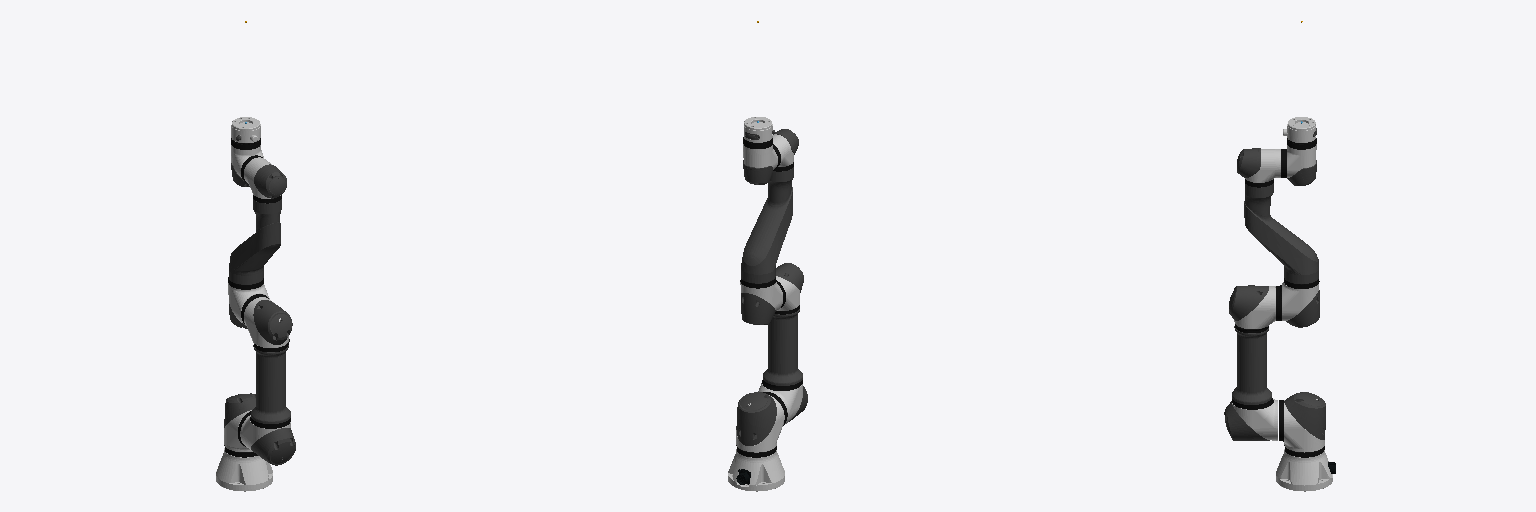
robot.urdf — rb3_730e:
<?xml version="1.0" ?>
<robot name="rb3_730e">
  <material name="black">
    <color rgba="0.10000000149011612 0.10000000149011612 0.10000000149011612 1.0"/>
  </material>
  <material name="gray_30">
    <color rgba="0.30000001192092896 0.30000001192092896 0.30000001192092896 1.0"/>
  </material>
  <material name="gray_80">
    <color rgba="0.800000011920929 0.800000011920929 0.800000011920929 1.0"/>
  </material>
  <material name="dark_gray">
    <color rgba="0.07227200269699097 0.09084200114011765 0.09758699685335159 1.0"/>
  </material>
  <link name="world"/>
  <link name="link0">
    <visual>
      <origin xyz="0.0 0.0 0.0" rpy="0.0 0.0 0.0"/>
      <geometry>
        <mesh filename="../meshes/robots/rb3_730e/visual/link0/link0_0.obj" scale="1.0 1.0 1.0"/>
      </geometry>
      <material name="dark_gray"/>
    </visual>
    <visual>
      <origin xyz="0.0 0.0 0.0" rpy="0.0 0.0 0.0"/>
      <geometry>
        <mesh filename="../meshes/robots/rb3_730e/visual/link0/link0_1.obj" scale="1.0 1.0 1.0"/>
      </geometry>
      <material name="gray_80"/>
    </visual>
    <visual>
      <origin xyz="0.0 0.0 0.0" rpy="0.0 0.0 0.0"/>
      <geometry>
        <mesh filename="../meshes/robots/rb3_730e/visual/link0/link0_2.obj" scale="1.0 1.0 1.0"/>
      </geometry>
      <material name="gray_80"/>
    </visual>
    <visual>
      <origin xyz="0.0 0.0 0.0" rpy="0.0 0.0 0.0"/>
      <geometry>
        <mesh filename="../meshes/robots/rb3_730e/visual/link0/link0_3.obj" scale="1.0 1.0 1.0"/>
      </geometry>
      <material name="gray_30"/>
    </visual>
    <visual>
      <origin xyz="0.0 0.0 0.0" rpy="0.0 0.0 0.0"/>
      <geometry>
        <mesh filename="../meshes/robots/rb3_730e/visual/link0/link0_4.obj" scale="1.0 1.0 1.0"/>
      </geometry>
      <material name="black"/>
    </visual>
    <collision>
      <origin xyz="0.0 0.0 0.0" rpy="0.0 0.0 -1.5708"/>
      <geometry>
        <mesh filename="../meshes/robots/rb3_730e/collision/link0.stl" scale="1.0 1.0 1.0"/>
      </geometry>
    </collision>
  </link>
  <link name="link1">
    <inertial>
      <origin xyz="0.000101 -0.003241 -0.017587" rpy="0.0 0.0 0.0"/>
      <mass value="2.058"/>
      <inertia ixx="0.003" iyy="0.003" izz="0.002" ixy="0" ixz="0" iyz="0"/>
    </inertial>
    <visual>
      <origin xyz="0.0 0.0 0.0" rpy="0.0 0.0 0.0"/>
      <geometry>
        <mesh filename="../meshes/robots/rb3_730e/visual/link1/link1_0.obj" scale="1.0 1.0 1.0"/>
      </geometry>
      <material name="gray_80"/>
    </visual>
    <visual>
      <origin xyz="0.0 0.0 0.0" rpy="0.0 0.0 0.0"/>
      <geometry>
        <mesh filename="../meshes/robots/rb3_730e/visual/link1/link1_1.obj" scale="1.0 1.0 1.0"/>
      </geometry>
      <material name="gray_30"/>
    </visual>
    <visual>
      <origin xyz="0.0 0.0 0.0" rpy="0.0 0.0 0.0"/>
      <geometry>
        <mesh filename="../meshes/robots/rb3_730e/visual/link1/link1_2.obj" scale="1.0 1.0 1.0"/>
      </geometry>
      <material name="black"/>
    </visual>
    <visual>
      <origin xyz="0.0 0.0 0.0" rpy="0.0 0.0 0.0"/>
      <geometry>
        <mesh filename="../meshes/robots/rb3_730e/visual/link1/link1_3.obj" scale="1.0 1.0 1.0"/>
      </geometry>
      <material name="gray_80"/>
    </visual>
    <visual>
      <origin xyz="0.0 0.0 0.0" rpy="0.0 0.0 0.0"/>
      <geometry>
        <mesh filename="../meshes/robots/rb3_730e/visual/link1/link1_4.obj" scale="1.0 1.0 1.0"/>
      </geometry>
      <material name="black"/>
    </visual>
    <collision>
      <origin xyz="0.0 0.0 0.0" rpy="0.0 0.0 0.0"/>
      <geometry>
        <mesh filename="../meshes/robots/rb3_730e/collision/link1.stl" scale="1.0 1.0 1.0"/>
      </geometry>
    </collision>
  </link>
  <link name="link2">
    <inertial>
      <origin xyz="-4.9e-05 -0.095326 0.121743" rpy="0.0 0.0 0.0"/>
      <mass value="4.227"/>
      <inertia ixx="0.075" iyy="0.073" izz="0.005" ixy="0" ixz="0" iyz="0"/>
    </inertial>
    <visual>
      <origin xyz="0.0 0.0 0.0" rpy="0.0 0.0 0.0"/>
      <geometry>
        <mesh filename="../meshes/robots/rb3_730e/visual/link2/link2_0.obj" scale="1.0 1.0 1.0"/>
      </geometry>
      <material name="gray_30"/>
    </visual>
    <visual>
      <origin xyz="0.0 0.0 0.0" rpy="0.0 0.0 0.0"/>
      <geometry>
        <mesh filename="../meshes/robots/rb3_730e/visual/link2/link2_1.obj" scale="1.0 1.0 1.0"/>
      </geometry>
      <material name="gray_30"/>
    </visual>
    <visual>
      <origin xyz="0.0 0.0 0.0" rpy="0.0 0.0 0.0"/>
      <geometry>
        <mesh filename="../meshes/robots/rb3_730e/visual/link2/link2_2.obj" scale="1.0 1.0 1.0"/>
      </geometry>
      <material name="gray_80"/>
    </visual>
    <visual>
      <origin xyz="0.0 0.0 0.0" rpy="0.0 0.0 0.0"/>
      <geometry>
        <mesh filename="../meshes/robots/rb3_730e/visual/link2/link2_3.obj" scale="1.0 1.0 1.0"/>
      </geometry>
      <material name="gray_80"/>
    </visual>
    <visual>
      <origin xyz="0.0 0.0 0.0" rpy="0.0 0.0 0.0"/>
      <geometry>
        <mesh filename="../meshes/robots/rb3_730e/visual/link2/link2_4.obj" scale="1.0 1.0 1.0"/>
      </geometry>
      <material name="gray_30"/>
    </visual>
    <visual>
      <origin xyz="0.0 0.0 0.0" rpy="0.0 0.0 0.0"/>
      <geometry>
        <mesh filename="../meshes/robots/rb3_730e/visual/link2/link2_5.obj" scale="1.0 1.0 1.0"/>
      </geometry>
      <material name="gray_80"/>
    </visual>
    <visual>
      <origin xyz="0.0 0.0 0.0" rpy="0.0 0.0 0.0"/>
      <geometry>
        <mesh filename="../meshes/robots/rb3_730e/visual/link2/link2_6.obj" scale="1.0 1.0 1.0"/>
      </geometry>
      <material name="gray_80"/>
    </visual>
    <visual>
      <origin xyz="0.0 0.0 0.0" rpy="0.0 0.0 0.0"/>
      <geometry>
        <mesh filename="../meshes/robots/rb3_730e/visual/link2/link2_7.obj" scale="1.0 1.0 1.0"/>
      </geometry>
      <material name="gray_30"/>
    </visual>
    <visual>
      <origin xyz="0.0 0.0 0.0" rpy="0.0 0.0 0.0"/>
      <geometry>
        <mesh filename="../meshes/robots/rb3_730e/visual/link2/link2_8.obj" scale="1.0 1.0 1.0"/>
      </geometry>
      <material name="black"/>
    </visual>
    <visual>
      <origin xyz="0.0 0.0 0.0" rpy="0.0 0.0 0.0"/>
      <geometry>
        <mesh filename="../meshes/robots/rb3_730e/visual/link2/link2_9.obj" scale="1.0 1.0 1.0"/>
      </geometry>
      <material name="black"/>
    </visual>
    <visual>
      <origin xyz="0.0 0.0 0.0" rpy="0.0 0.0 0.0"/>
      <geometry>
        <mesh filename="../meshes/robots/rb3_730e/visual/link2/link2_10.obj" scale="1.0 1.0 1.0"/>
      </geometry>
      <material name="black"/>
    </visual>
    <collision>
      <origin xyz="0.0 0.0 0.0" rpy="0.0 0.0 0.0"/>
      <geometry>
        <mesh filename="../meshes/robots/rb3_730e/collision/link2/link2_hull_000.stl" scale="1.0 1.0 1.0"/>
      </geometry>
    </collision>
    <collision>
      <origin xyz="0.0 0.0 0.0" rpy="0.0 0.0 0.0"/>
      <geometry>
        <mesh filename="../meshes/robots/rb3_730e/collision/link2/link2_hull_001.stl" scale="1.0 1.0 1.0"/>
      </geometry>
    </collision>
    <collision>
      <origin xyz="0.0 0.0 0.0" rpy="0.0 0.0 0.0"/>
      <geometry>
        <mesh filename="../meshes/robots/rb3_730e/collision/link2/link2_hull_002.stl" scale="1.0 1.0 1.0"/>
      </geometry>
    </collision>
  </link>
  <link name="link3">
    <inertial>
      <origin xyz="0.0 -0.004 0.026" rpy="0.0 0.0 0.0"/>
      <mass value="1.45"/>
      <inertia ixx="0.02" iyy="0.018" izz="0.003" ixy="0" ixz="0" iyz="0.004"/>
    </inertial>
    <visual>
      <origin xyz="0.0 0.0 0.0" rpy="0.0 0.0 0.0"/>
      <geometry>
        <mesh filename="../meshes/robots/rb3_730e/visual/link3/link3_0.obj" scale="1.0 1.0 1.0"/>
      </geometry>
      <material name="black"/>
    </visual>
    <visual>
      <origin xyz="0.0 0.0 0.0" rpy="0.0 0.0 0.0"/>
      <geometry>
        <mesh filename="../meshes/robots/rb3_730e/visual/link3/link3_1.obj" scale="1.0 1.0 1.0"/>
      </geometry>
      <material name="gray_80"/>
    </visual>
    <visual>
      <origin xyz="0.0 0.0 0.0" rpy="0.0 0.0 0.0"/>
      <geometry>
        <mesh filename="../meshes/robots/rb3_730e/visual/link3/link3_2.obj" scale="1.0 1.0 1.0"/>
      </geometry>
      <material name="gray_80"/>
    </visual>
    <visual>
      <origin xyz="0.0 0.0 0.0" rpy="0.0 0.0 0.0"/>
      <geometry>
        <mesh filename="../meshes/robots/rb3_730e/visual/link3/link3_3.obj" scale="1.0 1.0 1.0"/>
      </geometry>
      <material name="gray_30"/>
    </visual>
    <visual>
      <origin xyz="0.0 0.0 0.0" rpy="0.0 0.0 0.0"/>
      <geometry>
        <mesh filename="../meshes/robots/rb3_730e/visual/link3/link3_4.obj" scale="1.0 1.0 1.0"/>
      </geometry>
      <material name="black"/>
    </visual>
    <visual>
      <origin xyz="0.0 0.0 0.0" rpy="0.0 0.0 0.0"/>
      <geometry>
        <mesh filename="../meshes/robots/rb3_730e/visual/link3/link3_5.obj" scale="1.0 1.0 1.0"/>
      </geometry>
      <material name="black"/>
    </visual>
    <collision>
      <origin xyz="0.0 0.0 0.0" rpy="0.0 0.0 0.0"/>
      <geometry>
        <mesh filename="../meshes/robots/rb3_730e/collision/link3.stl" scale="1.0 1.0 1.0"/>
      </geometry>
    </collision>
  </link>
  <link name="link4">
    <inertial>
      <origin xyz="0.0 -0.065 0.264" rpy="0.0 0.0 0.0"/>
      <mass value="1.798"/>
      <inertia ixx="0.02" iyy="0.018" izz="0.003" ixy="0" ixz="0" iyz="0.004"/>
    </inertial>
    <visual>
      <origin xyz="0.0 0.0 0.0" rpy="0.0 0.0 0.0"/>
      <geometry>
        <mesh filename="../meshes/robots/rb3_730e/visual/link4/link4_0.obj" scale="1.0 1.0 1.0"/>
      </geometry>
      <material name="gray_30"/>
    </visual>
    <visual>
      <origin xyz="0.0 0.0 0.0" rpy="0.0 0.0 0.0"/>
      <geometry>
        <mesh filename="../meshes/robots/rb3_730e/visual/link4/link4_1.obj" scale="1.0 1.0 1.0"/>
      </geometry>
      <material name="black"/>
    </visual>
    <visual>
      <origin xyz="0.0 0.0 0.0" rpy="0.0 0.0 0.0"/>
      <geometry>
        <mesh filename="../meshes/robots/rb3_730e/visual/link4/link4_2.obj" scale="1.0 1.0 1.0"/>
      </geometry>
      <material name="gray_80"/>
    </visual>
    <visual>
      <origin xyz="0.0 0.0 0.0" rpy="0.0 0.0 0.0"/>
      <geometry>
        <mesh filename="../meshes/robots/rb3_730e/visual/link4/link4_3.obj" scale="1.0 1.0 1.0"/>
      </geometry>
      <material name="black"/>
    </visual>
    <visual>
      <origin xyz="0.0 0.0 0.0" rpy="0.0 0.0 0.0"/>
      <geometry>
        <mesh filename="../meshes/robots/rb3_730e/visual/link4/link4_4.obj" scale="1.0 1.0 1.0"/>
      </geometry>
      <material name="gray_30"/>
    </visual>
    <collision>
      <origin xyz="0.0 0.0 0.0" rpy="0.0 0.0 0.0"/>
      <geometry>
        <mesh filename="../meshes/robots/rb3_730e/collision/link4/link4_hull_000.stl" scale="1.0 1.0 1.0"/>
      </geometry>
    </collision>
    <collision>
      <origin xyz="0.0 0.0 0.0" rpy="0.0 0.0 0.0"/>
      <geometry>
        <mesh filename="../meshes/robots/rb3_730e/collision/link4/link4_hull_001.stl" scale="1.0 1.0 1.0"/>
      </geometry>
    </collision>
    <collision>
      <origin xyz="0.0 0.0 0.0" rpy="0.0 0.0 0.0"/>
      <geometry>
        <mesh filename="../meshes/robots/rb3_730e/collision/link4/link4_hull_002.stl" scale="1.0 1.0 1.0"/>
      </geometry>
    </collision>
    <collision>
      <origin xyz="0.0 0.0 0.0" rpy="0.0 0.0 0.0"/>
      <geometry>
        <mesh filename="../meshes/robots/rb3_730e/collision/link4/link4_hull_003.stl" scale="1.0 1.0 1.0"/>
      </geometry>
    </collision>
  </link>
  <link name="link5">
    <inertial>
      <origin xyz="0.0 -0.001 0.017" rpy="0.0 0.0 0.0"/>
      <mass value="0.944"/>
      <inertia ixx="0.000776694" iyy="0.000786695" izz="0.000515123" ixy="5.052e-06" ixz="-5.306e-06" iyz="-1.7419e-05"/>
    </inertial>
    <visual>
      <origin xyz="0.0 0.0 0.0" rpy="0.0 0.0 0.0"/>
      <geometry>
        <mesh filename="../meshes/robots/rb3_730e/visual/link5/link5_0.obj" scale="1.0 1.0 1.0"/>
      </geometry>
      <material name="black"/>
    </visual>
    <visual>
      <origin xyz="0.0 0.0 0.0" rpy="0.0 0.0 0.0"/>
      <geometry>
        <mesh filename="../meshes/robots/rb3_730e/visual/link5/link5_1.obj" scale="1.0 1.0 1.0"/>
      </geometry>
      <material name="gray_80"/>
    </visual>
    <visual>
      <origin xyz="0.0 0.0 0.0" rpy="0.0 0.0 0.0"/>
      <geometry>
        <mesh filename="../meshes/robots/rb3_730e/visual/link5/link5_2.obj" scale="1.0 1.0 1.0"/>
      </geometry>
      <material name="gray_80"/>
    </visual>
    <visual>
      <origin xyz="0.0 0.0 0.0" rpy="0.0 0.0 0.0"/>
      <geometry>
        <mesh filename="../meshes/robots/rb3_730e/visual/link5/link5_3.obj" scale="1.0 1.0 1.0"/>
      </geometry>
      <material name="gray_30"/>
    </visual>
    <collision>
      <origin xyz="0.0 0.0 0.0" rpy="0.0 0.0 0.0"/>
      <geometry>
        <mesh filename="../meshes/robots/rb3_730e/collision/link5.stl" scale="1.0 1.0 1.0"/>
      </geometry>
    </collision>
  </link>
  <link name="link6">
    <inertial>
      <origin xyz="-0.001 -0.001 0.068" rpy="0.0 0.0 0.0"/>
      <mass value="0.05"/>
      <inertia ixx="2.6302e-05" iyy="1.6887e-05" izz="3.5232e-05" ixy="-3.4e-07" ixz="4.57e-07" iyz="1.48e-07"/>
    </inertial>
    <visual>
      <origin xyz="0.0 0.0 0.0" rpy="0.0 0.0 0.0"/>
      <geometry>
        <mesh filename="../meshes/robots/rb3_730e/visual/link6/link6_0.obj" scale="1.0 1.0 1.0"/>
      </geometry>
      <material name="black"/>
    </visual>
    <visual>
      <origin xyz="0.0 0.0 0.0" rpy="0.0 0.0 0.0"/>
      <geometry>
        <mesh filename="../meshes/robots/rb3_730e/visual/link6/link6_1.obj" scale="1.0 1.0 1.0"/>
      </geometry>
      <material name="gray_30"/>
    </visual>
    <visual>
      <origin xyz="0.0 0.0 0.0" rpy="0.0 0.0 0.0"/>
      <geometry>
        <mesh filename="../meshes/robots/rb3_730e/visual/link6/link6_2.obj" scale="1.0 1.0 1.0"/>
      </geometry>
      <material name="gray_30"/>
    </visual>
    <visual>
      <origin xyz="0.0 0.0 0.0" rpy="0.0 0.0 0.0"/>
      <geometry>
        <mesh filename="../meshes/robots/rb3_730e/visual/link6/link6_3.obj" scale="1.0 1.0 1.0"/>
      </geometry>
      <material name="gray_80"/>
    </visual>
    <visual>
      <origin xyz="0.0 0.0 0.0" rpy="0.0 0.0 0.0"/>
      <geometry>
        <mesh filename="../meshes/robots/rb3_730e/visual/link6/link6_4.obj" scale="1.0 1.0 1.0"/>
      </geometry>
      <material name="gray_80"/>
    </visual>
    <visual>
      <origin xyz="0.0 0.0 0.0" rpy="0.0 0.0 0.0"/>
      <geometry>
        <mesh filename="../meshes/robots/rb3_730e/visual/link6/link6_5.obj" scale="1.0 1.0 1.0"/>
      </geometry>
      <material name="gray_30"/>
    </visual>
    <visual>
      <origin xyz="0.0 0.0 0.0" rpy="0.0 0.0 0.0"/>
      <geometry>
        <mesh filename="../meshes/robots/rb3_730e/visual/link6/link6_6.obj" scale="1.0 1.0 1.0"/>
      </geometry>
      <material name="gray_30"/>
    </visual>
    <collision>
      <origin xyz="0.0 0.0 0.0" rpy="0.0 0.0 0.0"/>
      <geometry>
        <mesh filename="../meshes/robots/rb3_730e/collision/link6.stl" scale="1.0 1.0 1.0"/>
      </geometry>
    </collision>
  </link>
  <link name="tcp">
    <visual>
      <origin xyz="0.0 0.0 0.0" rpy="0.0 0.0 0.0"/>
      <geometry>
        <sphere radius="0.0025"/>
      </geometry>
    </visual>
  </link>
  <link name="attachment_site">
    <visual>
      <origin xyz="0.0 0.0 0.0" rpy="0.0 0.0 0.0"/>
      <geometry>
        <sphere radius="0.0025"/>
      </geometry>
    </visual>
  </link>
  <!-- Robotous RFT64-6A01 frames embedded in the combined Pika tool CAD.
       The sensor mesh occupies attachment_site z=0.015..0.045 m: a 15 mm
       robot-side adapter followed by the 30 mm sensor body. The measurement
       origin is the RFT64 sensor_site at the tool-side face. The +90 deg yaw
       matches the baked Pika/RFT CAD orientation. This is a mechanical CAD
       frame only; the accepted rbpodo EFT/control frame is configured and
       published separately by rb_servo_server. -->
  <link name="ft_sensor_base"/>
  <link name="ft_sensor_measurement"/>
  <link name="tool">
    <visual>
      <origin xyz="0.0 0.0 0.0" rpy="0.0 0.0 1.5707963267948966"/>
      <geometry>
        <mesh filename="../meshes/robots/rb5_850e/visual/tool/pika_gripper.STL" scale="0.001 0.001 0.001"/>
      </geometry>
      <material name="gray_30"/>
    </visual>
  </link>
  <joint name="attachment_site_joint" type="fixed">
    <parent link="link6"/>
    <child link="attachment_site"/>
    <origin xyz="0.0 0.0 0.1" rpy="0.0 0.0 0.0"/>
  </joint>
  <joint name="ft_sensor_base_joint" type="fixed">
    <parent link="attachment_site"/>
    <child link="ft_sensor_base"/>
    <origin xyz="0.0 0.0 0.015" rpy="0.0 0.0 1.5707963267948966"/>
  </joint>
  <joint name="ft_sensor_measurement_joint" type="fixed">
    <parent link="ft_sensor_base"/>
    <child link="ft_sensor_measurement"/>
    <origin xyz="0.0 0.0 0.030" rpy="0.0 0.0 0.0"/>
  </joint>
  <joint name="tool_joint" type="fixed">
    <parent link="attachment_site"/>
    <child link="tool"/>
    <origin xyz="0.0 0.0 0.0" rpy="0.0 0.0 0.0"/>
  </joint>
  <joint name="tcp_joint" type="fixed">
    <parent link="attachment_site"/>
    <child link="tcp"/>
    <!-- Pika gripper fingertip plane = pika_gripper.STL z-max (247.642 mm), measured
         from attachment_site (flange +0.1 m). The older 0.21616 matched the legacy
         tool.STL tip. Disable by removing <origin> (URDF then defaults to identity,
         tcp == attachment_site). -->
    <origin xyz="0.0 0.0 0.247642" rpy="0.0 0.0 0.0"/>
  </joint>
  <joint name="link0_fixed" type="fixed">
    <parent link="world"/>
    <child link="link0"/>
    <origin xyz="0.0 0.0 0.0" rpy="0.0 0.0 1.5708"/>
  </joint>
  <joint name="base_joint" type="revolute">
    <parent link="link0"/>
    <child link="link1"/>
    <origin xyz="0.0 0.0 0.1453" rpy="0.0 0.0 -1.5708"/>
    <axis xyz="0.0 0.0 1.0"/>
    <limit lower="-6.2832" upper="6.2832" effort="150.0" velocity="3.141592653589793"/>
  </joint>
  <joint name="shoulder_joint" type="revolute">
    <parent link="link1"/>
    <child link="link2"/>
    <origin xyz="0.0 0.0 0.0" rpy="0.0 0.0 0.0"/>
    <axis xyz="0.0 1.0 0.0"/>
    <limit lower="-6.2832" upper="6.2832" effort="150.0" velocity="3.141592653589793"/>
  </joint>
  <joint name="elbow_joint" type="revolute">
    <parent link="link2"/>
    <child link="link3"/>
    <origin xyz="0.0 -0.00645 0.286" rpy="0.0 0.0 0.0"/>
    <axis xyz="0.0 1.0 0.0"/>
    <!-- elbow (J3) physical range on RB3-730E is +/-150 deg (+/-2.618 rad); the joint
         cannot reach +/-360 deg (catalog). Keep the IK model limit at the true physical
         range so the solver never selects an elbow branch the controller would
         reject/clamp -> that mismatch is what shows up as a TCP branch-flip / lurch.
         A pose that needs |J3|>150 deg is genuinely UNREACHABLE on this hardware, so an
         honest IK joint_limit hold (arm stops, WARN names J3) is the correct behavior;
         do NOT widen this to +/-360 to mask it (that only defers the failure to the
         controller as a silent branch jump). See docs/joint_range_policy.md
         "Kinematics Alignment". -->
    <limit lower="-2.618" upper="2.618" effort="150.0" velocity="3.141592653589793"/>
  </joint>
  <joint name="wrist1_joint" type="revolute">
    <parent link="link3"/>
    <child link="link4"/>
    <origin xyz="0.0 0.0 0.0" rpy="0.0 0.0 0.0"/>
    <axis xyz="0.0 0.0 1.0"/>
    <limit lower="-6.2832" upper="6.2832" effort="150.0" velocity="3.141592653589793"/>
  </joint>
  <joint name="wrist2_joint" type="revolute">
    <parent link="link4"/>
    <child link="link5"/>
    <origin xyz="0.0 0.0 0.344" rpy="0.0 0.0 0.0"/>
    <axis xyz="0.0 1.0 0.0"/>
    <limit lower="-6.2832" upper="6.2832" effort="28.0" velocity="3.141592653589793"/>
  </joint>
  <joint name="wrist3_joint" type="revolute">
    <parent link="link5"/>
    <child link="link6"/>
    <origin xyz="0.0 0.0 0.0" rpy="0.0 0.0 0.0"/>
    <axis xyz="0.0 0.0 1.0"/>
    <limit lower="-6.2832" upper="6.2832" effort="28.0" velocity="3.141592653589793"/>
  </joint>
</robot>

--- Render facts (derived) ---
Views: 3 orthographic renders of the robot side by side, from view 1: azimuth 30°, elevation 25°; view 2: azimuth 150°, elevation 25°; view 3: azimuth 270°, elevation 25°.
Model rb3_730e with 13 links and 12 joints (6 revolute, 6 fixed), rooted at world, posed all joints at 0.
Links seen in each view (by area): view 1: link2, link4, link0, link1, link3, link5, link6; view 2: link4, link2, link1, link0, link3, link5, link6; view 3: link2, link4, link1, link0, link3, link5, link6.
Boxes of the visible links, x1,y1,x2,y2 form: link2: (240, 297, 295, 465); link4: (229, 155, 286, 284); link0: (216, 448, 272, 491); link1: (224, 393, 255, 452); link3: (228, 277, 269, 328); link5: (231, 139, 263, 186); link6: (231, 117, 260, 144); link4: (741, 129, 798, 283); link2: (758, 263, 807, 425); link1: (736, 392, 786, 452); link0: (728, 447, 784, 491); link3: (740, 277, 785, 324); link5: (743, 137, 777, 184); link6: (744, 117, 774, 143); link2: (1224, 285, 1277, 440); link4: (1237, 148, 1318, 283); link1: (1279, 392, 1325, 452); link0: (1276, 447, 1335, 491); link3: (1277, 278, 1319, 327); link5: (1287, 138, 1316, 185); link6: (1283, 117, 1316, 143).
Bounding box of the posed robot: 0.128 × 0.247 × 1.13 m (x, y, z).
Meshes: 44 distinct files referenced, 43 mesh visuals loaded (43 OBJ); not drawn: 1 (reference not matched to a file when rendering).
